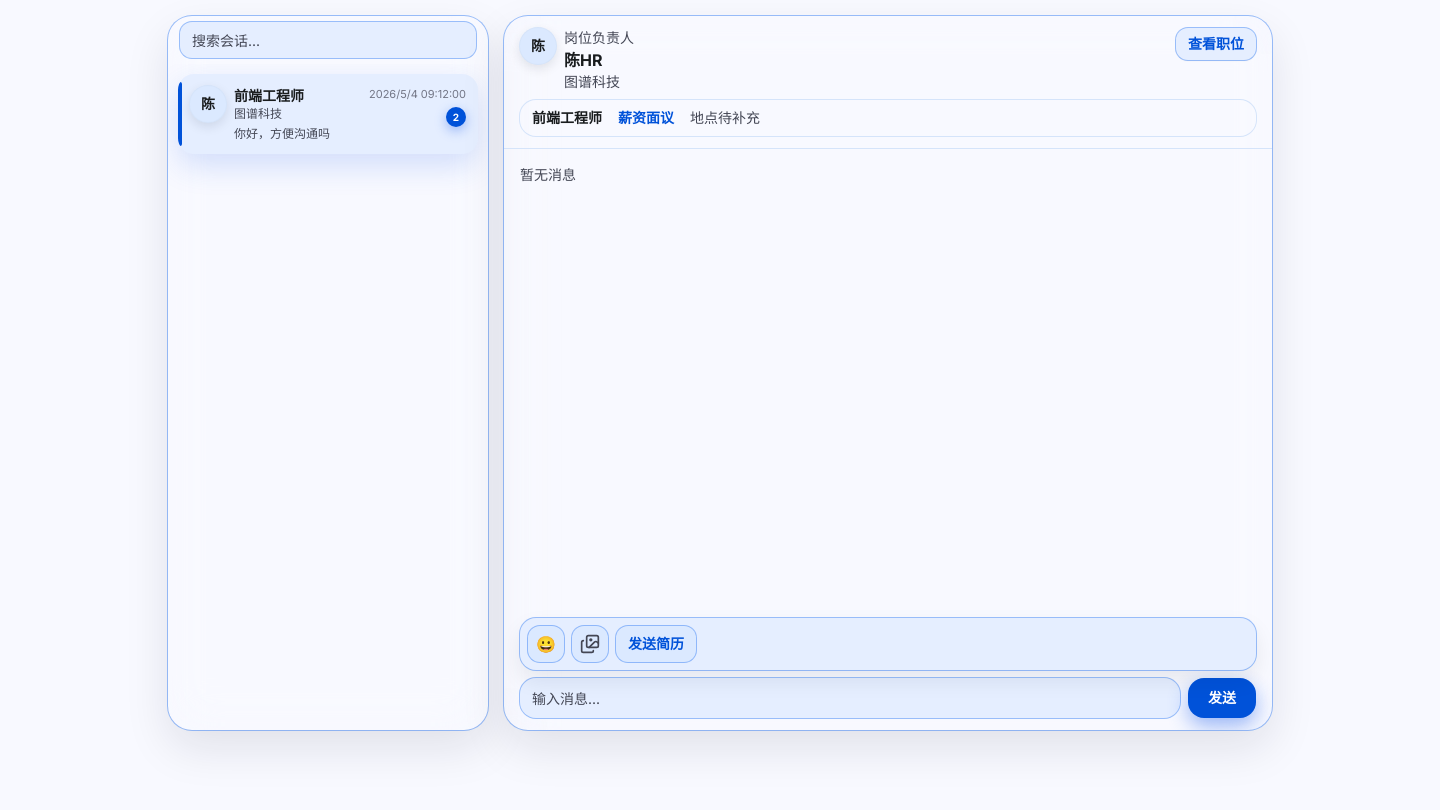
it: chat workspace redesign › opens emoji panel and inserts selected emoji into input
The image size is (1440, 810).
Click the button with test id "chat-emoji-button" at (546, 644), box [528,626,564,662]
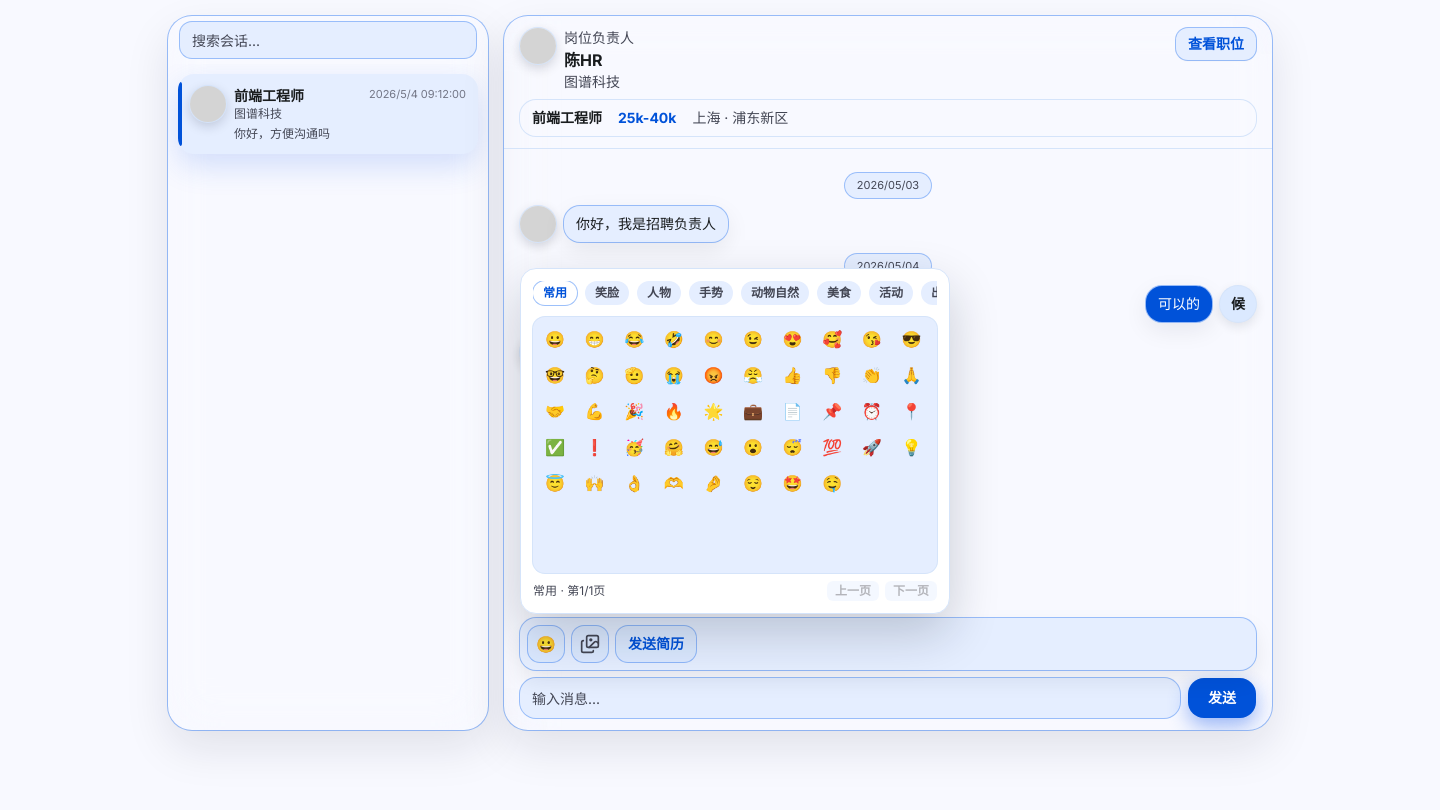
Click the 1st button "😀" at (555, 339), box [541,325,569,353]
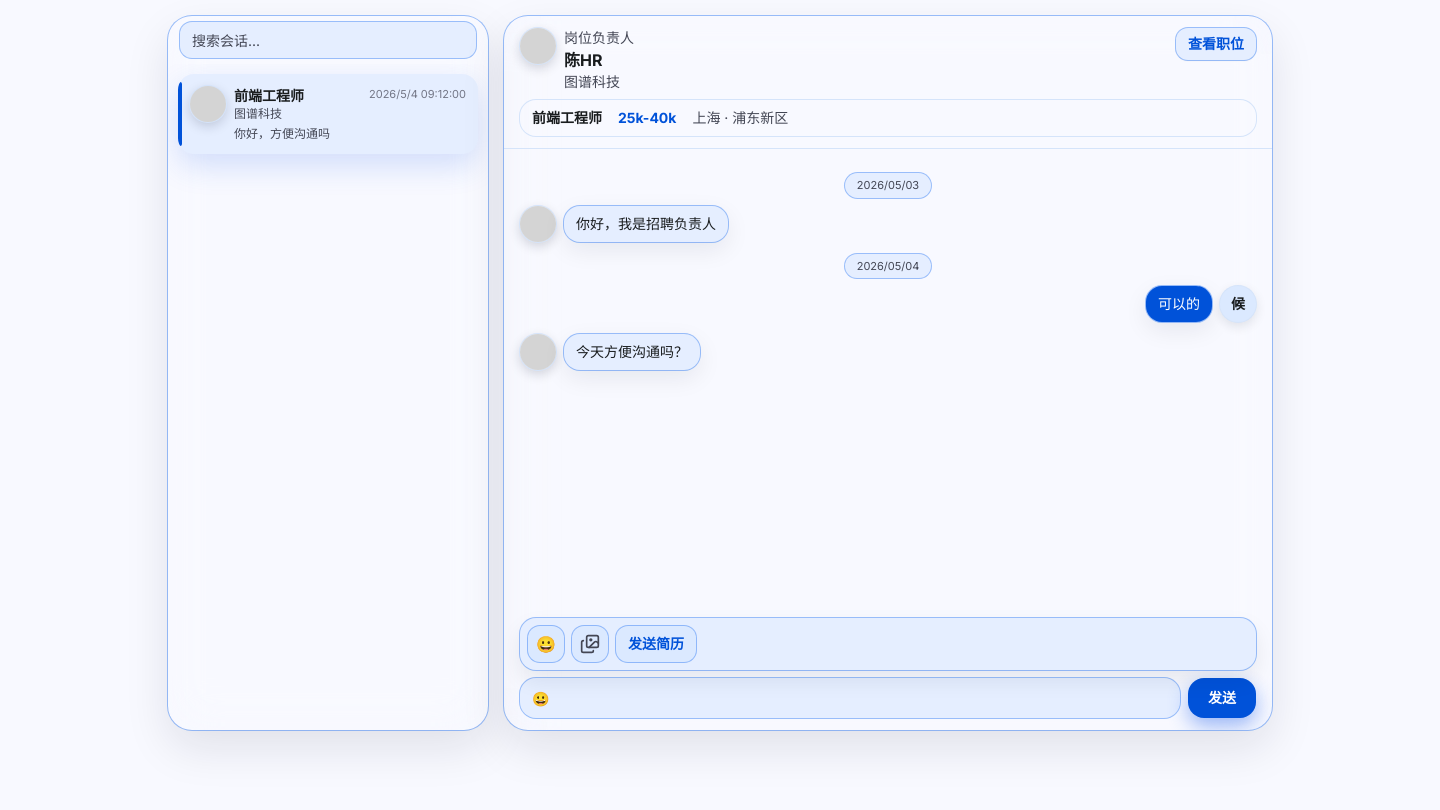
Check: the field with placeholder "输入消息..." holds "😀", box [520,678,1180,718]
